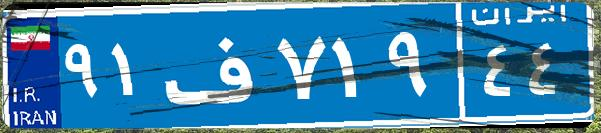1: (330, 28, 385, 110), (110, 28, 158, 105)
4: (475, 38, 525, 113), (525, 38, 570, 115)
7: (273, 28, 330, 110)
9: (385, 28, 445, 110), (57, 26, 110, 107)
ف: (158, 15, 273, 115)
